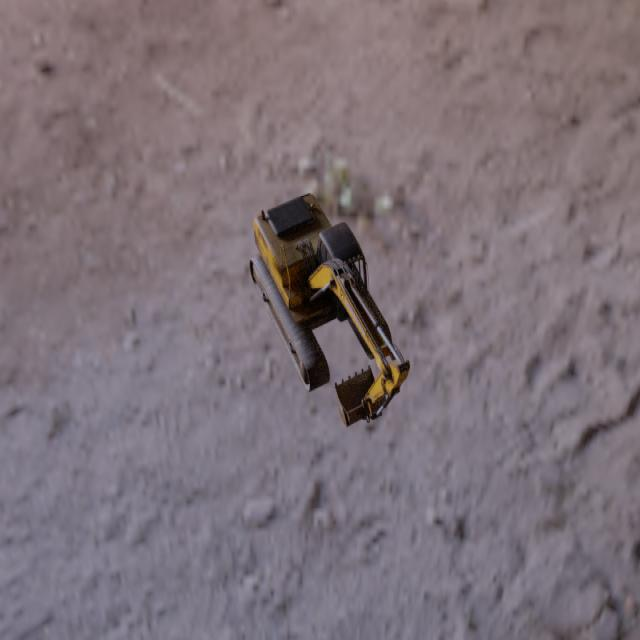excavator: (248, 192, 410, 427)
